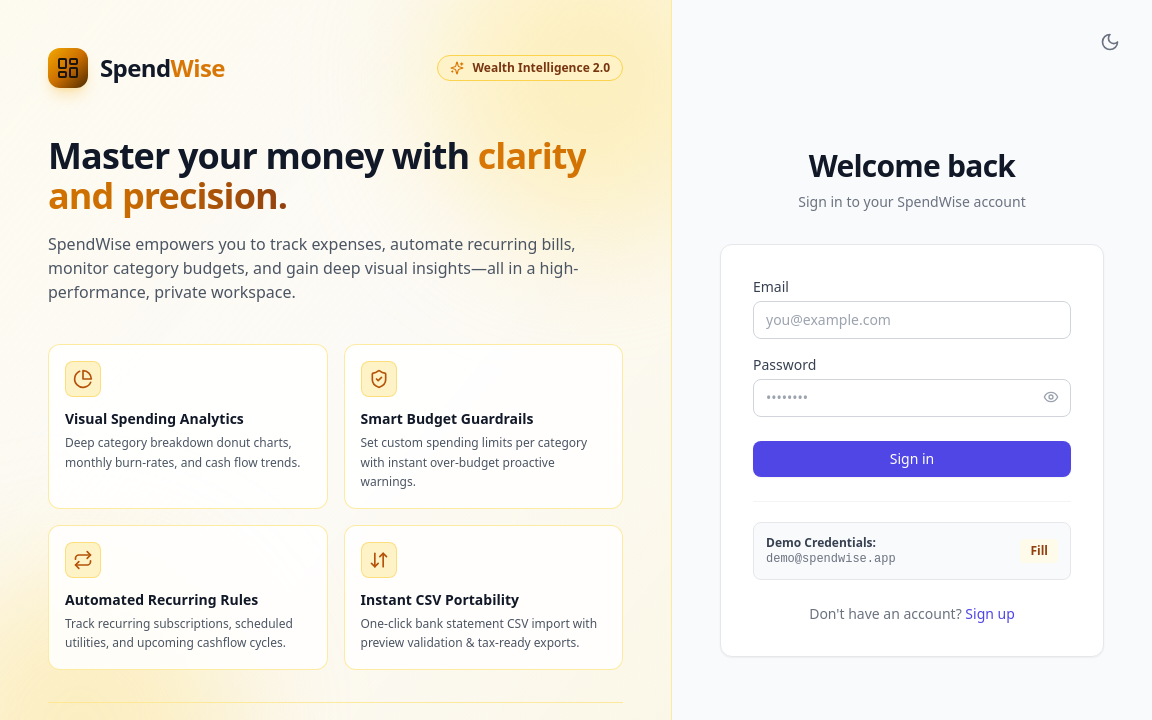
Test: Login Page - Form Submission › shows validation errors for invalid email
Type "invalid-email" into the field labelled "Email" at [912, 320], box [753,301,1071,339]
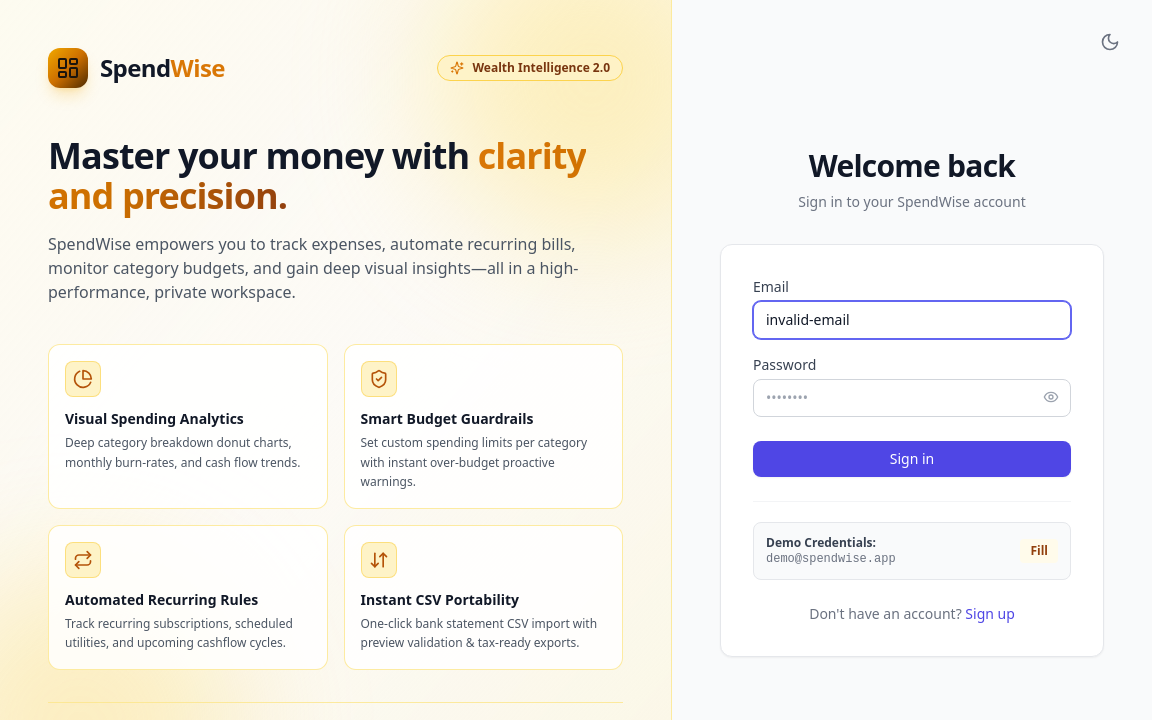
Type "password123" into the password field labelled "Password" at [912, 398], box [753,379,1071,417]
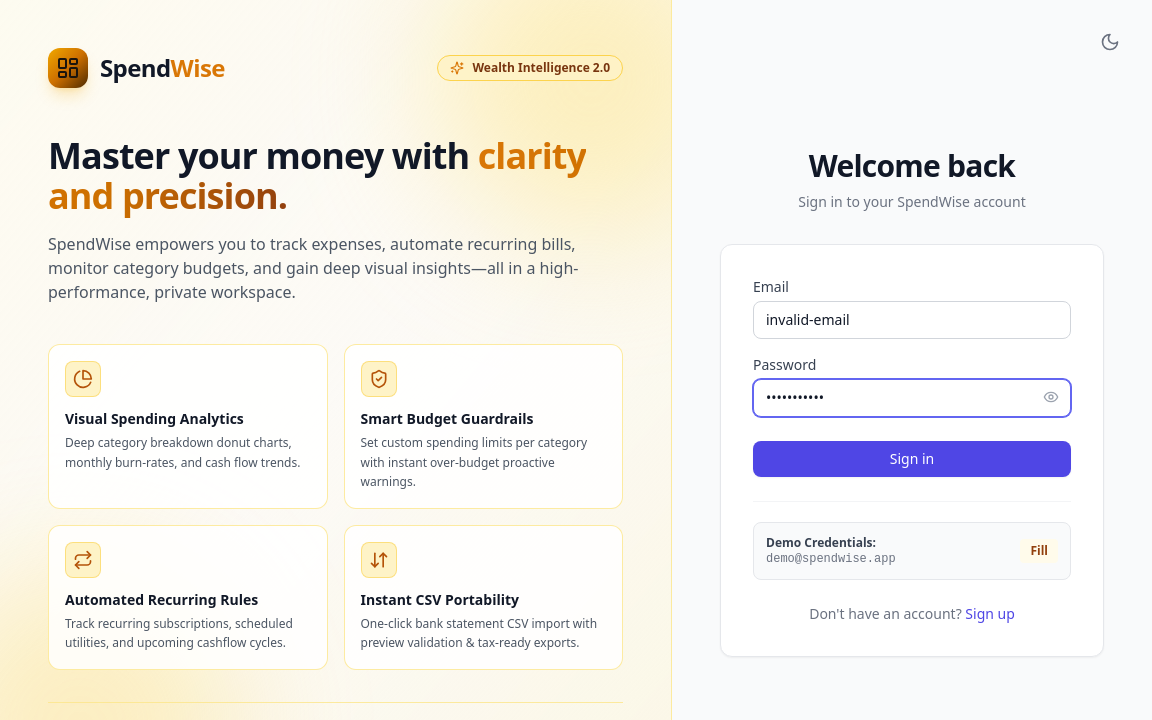
Submit the form with test id "login-form", box [753,277,1071,477]
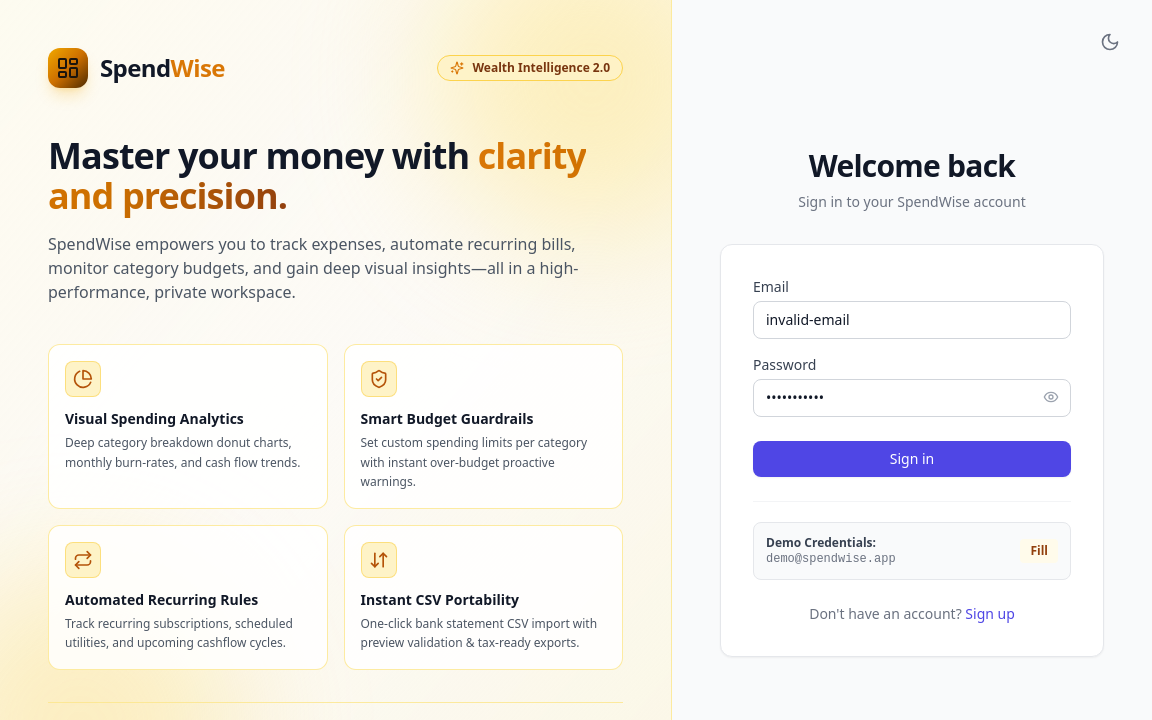
Type "password123" into the password field labelled "Password" at [912, 398], box [753,379,1071,417]
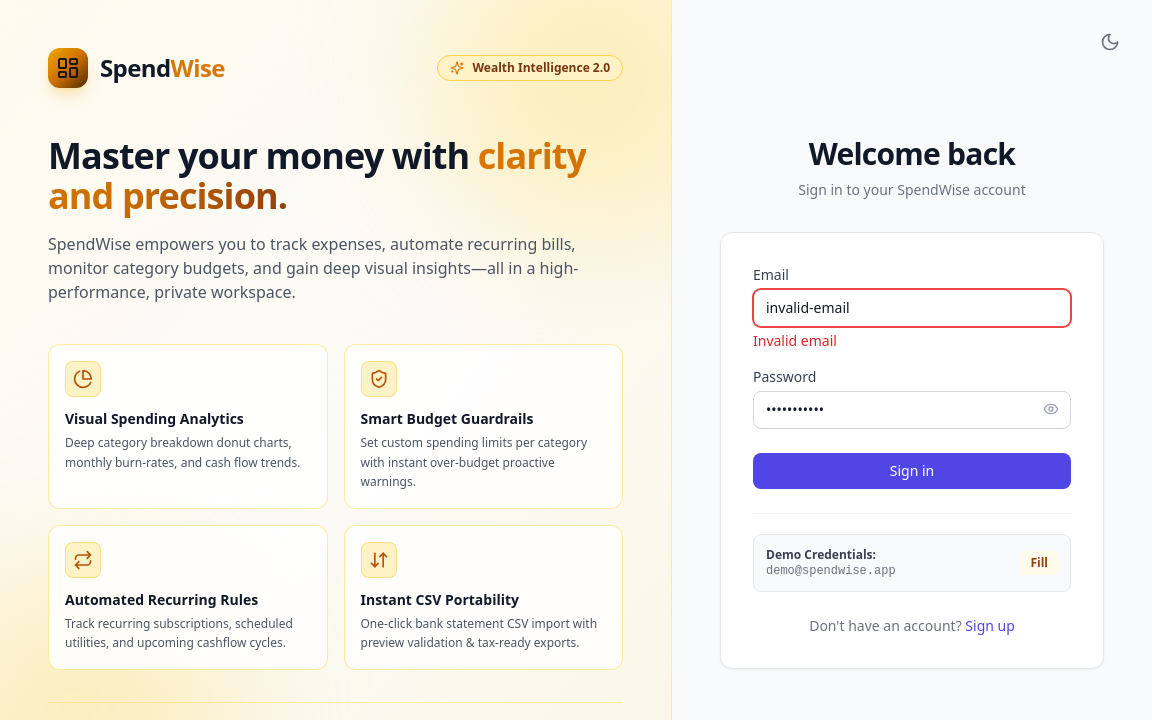
Expected: the text "Invalid email" is shown, [753,331,837,350]
